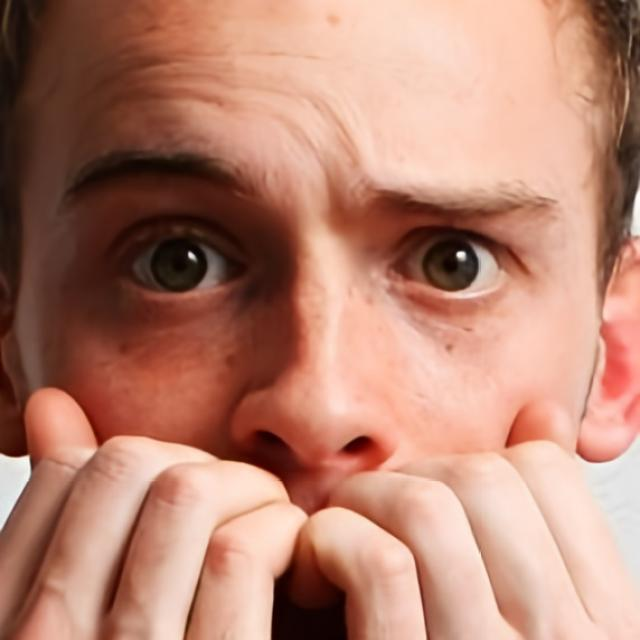fear: (11, 0, 606, 640)
